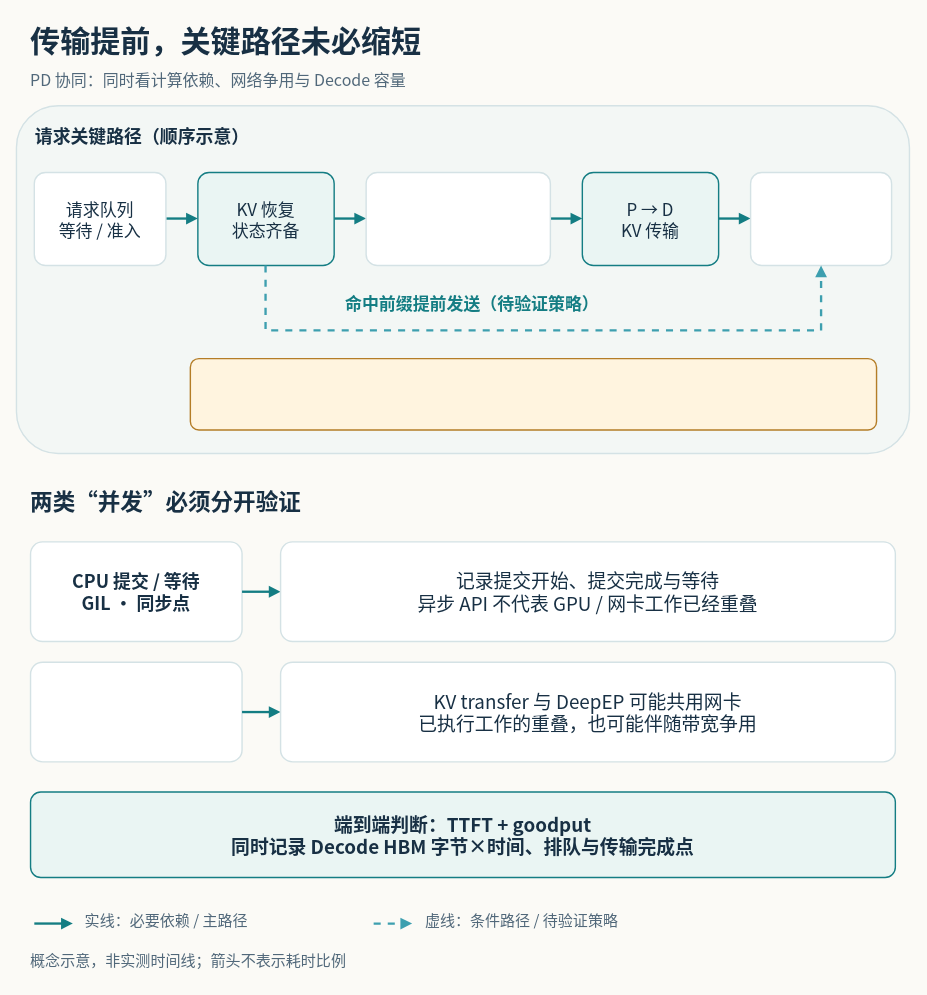
Some shapes in this 927 by 995 pixel diagram are drawn without their labels. The shapes that lost their labels are listed below. From the top down, each one's box as (x1, y1, x2, y2) in pixels, then its label:
(365, 171, 551, 266): Prefill 计算 DeepEP 集合通信
(749, 171, 892, 266): Decode 准入 首 token
(189, 357, 877, 430): 受 Decode HBM 预留预算与网络预算约束 只提前发送已命中前缀；suffix 计算依赖仍保留
(29, 661, 242, 762): GPU / 网卡执行 设备时间线
